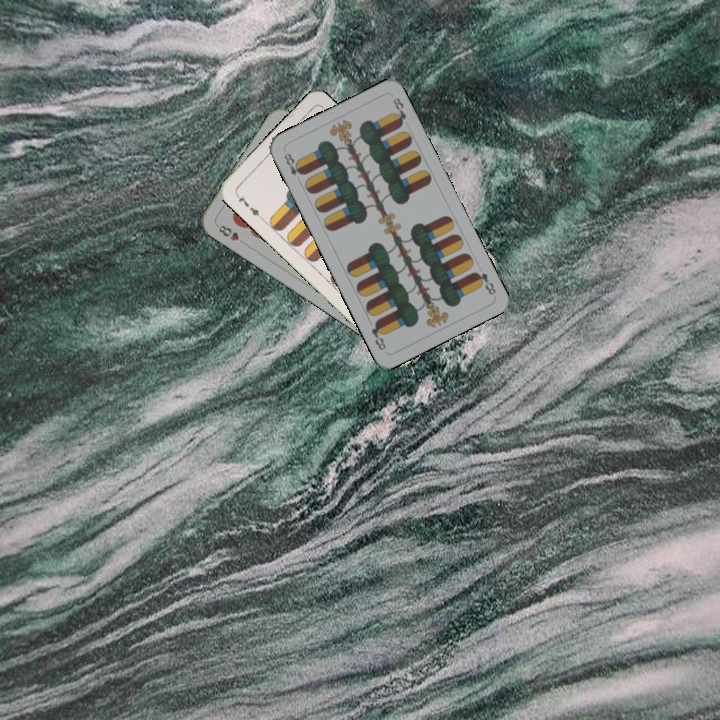E7: (232, 190, 264, 222)
E8: (470, 268, 498, 298), (280, 149, 306, 179)
H8: (214, 221, 241, 244)
